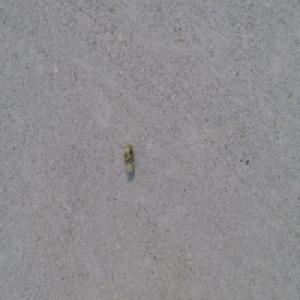BoltNutSet: (122, 144, 135, 171)
